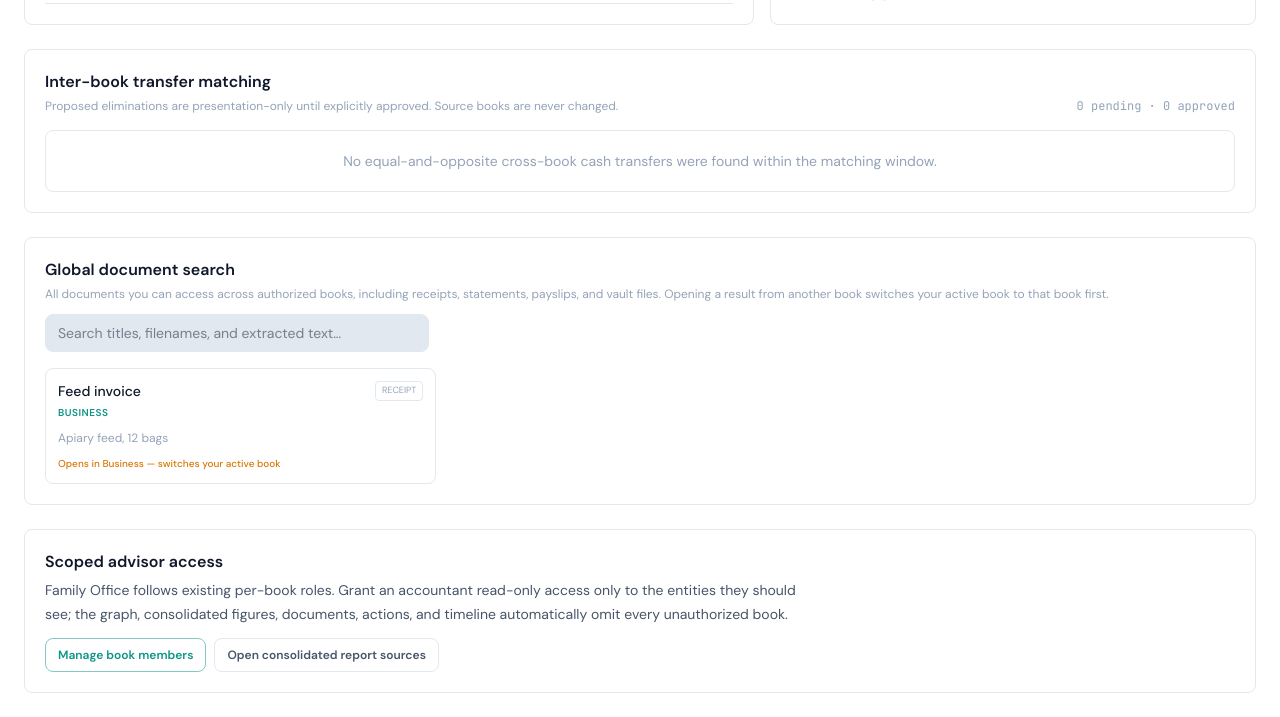
Test: Family Office cross-book document results › reports a server refusal rather than leaving the click inert
The image size is (1280, 717).
(page scrolled)
Expected: the text "Feed invoice" is shown, left=58, top=381, right=141, bottom=401
Click the button with aria-label "Open Feed invoice in Business": (99, 391) left=45, top=368, right=436, bottom=484
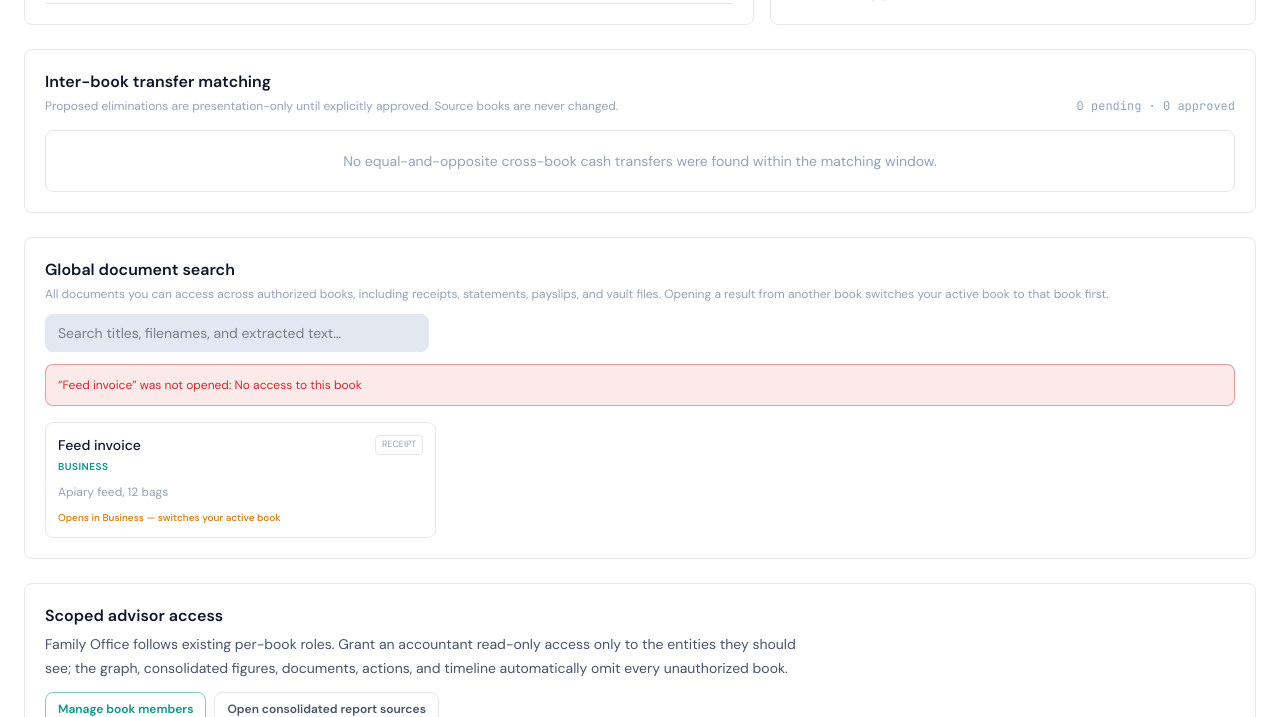
Expected: the text "“Feed invoice” was not opened: No access to this book" is shown, left=45, top=364, right=1235, bottom=406
